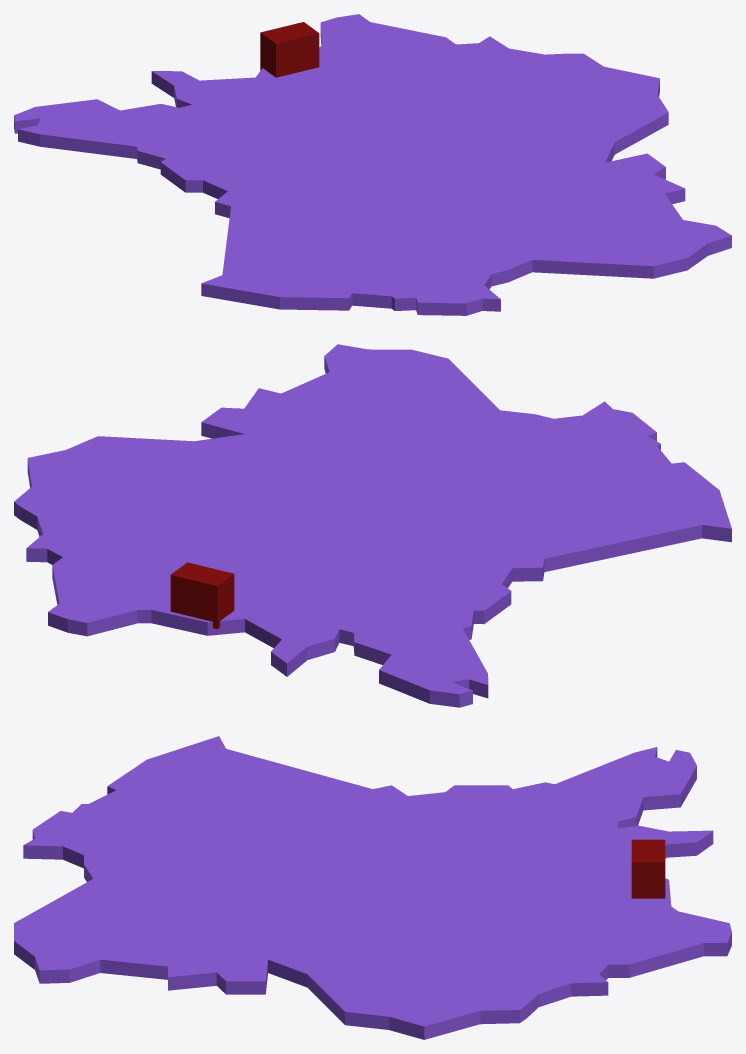
Rendered from france-test.DAE.
3 views of the same model, one above another, from view 1: azimuth 30°, elevation 25°; view 2: azimuth 150°, elevation 25°; view 3: azimuth 270°, elevation 25° (orthographic). The views are drawn at different scales.
Parts seen in each view (by area): view 1: France, Box001; view 2: France, Box001; view 3: France, Box001.
Boxes of the visible parts, left/top/right/bottom form: France: left=14, top=14, right=731, bottom=315; Box001: left=260, top=22, right=319, bottom=77; France: left=14, top=344, right=731, bottom=707; Box001: left=170, top=562, right=234, bottom=629; France: left=14, top=736, right=731, bottom=1039; Box001: left=631, top=839, right=665, bottom=898.
Size of the model in its own units: 102 by 107 by 8.17.
